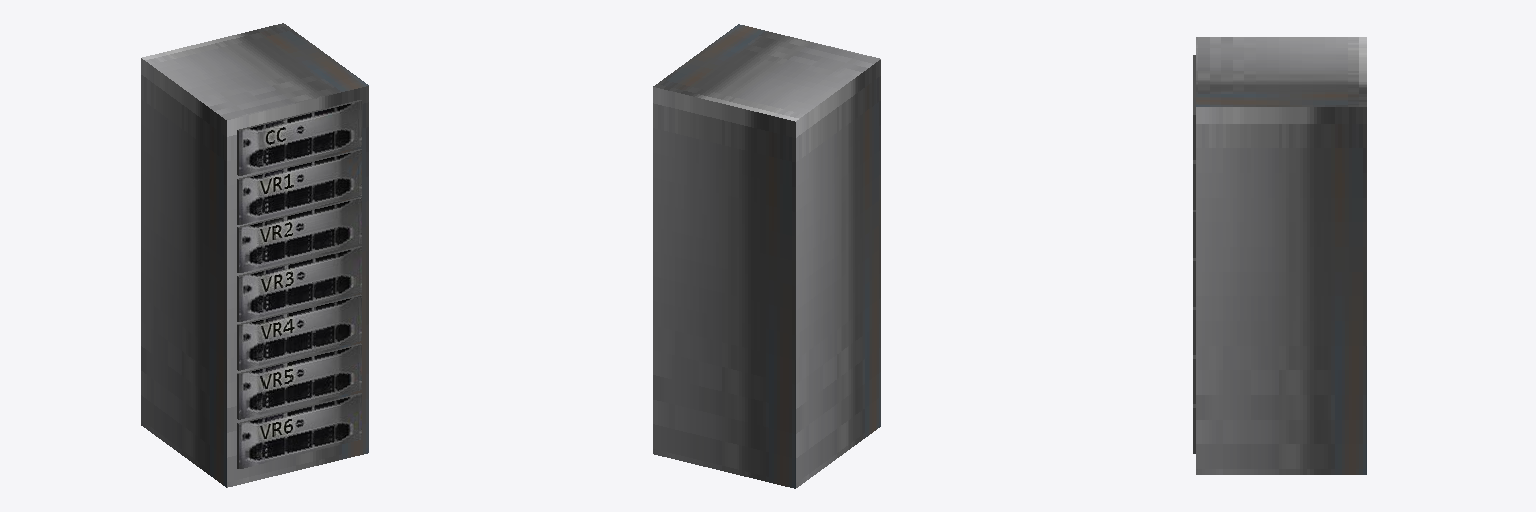
3 views of the same model, side by side, from view 1: azimuth 30°, elevation 25°; view 2: azimuth 150°, elevation 25°; view 3: azimuth 270°, elevation 25° (orthographic).
Visible parts, largest first — view 1: Box002; view 2: Box002; view 3: Box002.
Part boxes in pixels (left/top/right/bottom): Box002: left=141, top=23, right=368, bottom=487; Box002: left=653, top=24, right=880, bottom=488; Box002: left=1193, top=37, right=1366, bottom=474.
Size of the model in its own units: 2.74 by 6.76 by 2.9.
Materials: 1 (1 with a texture image).